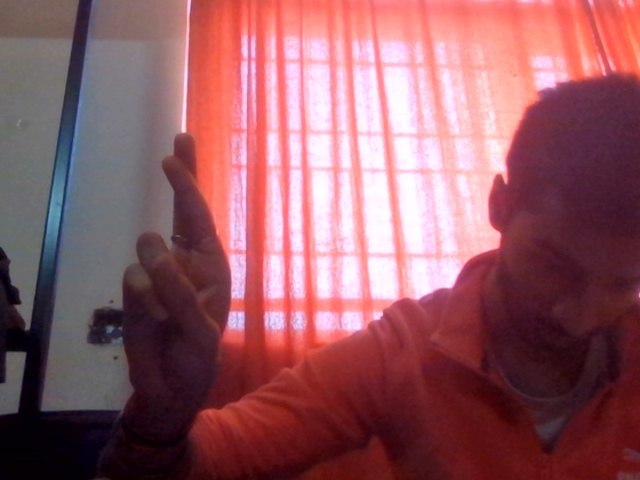R: (100, 133, 263, 463)
